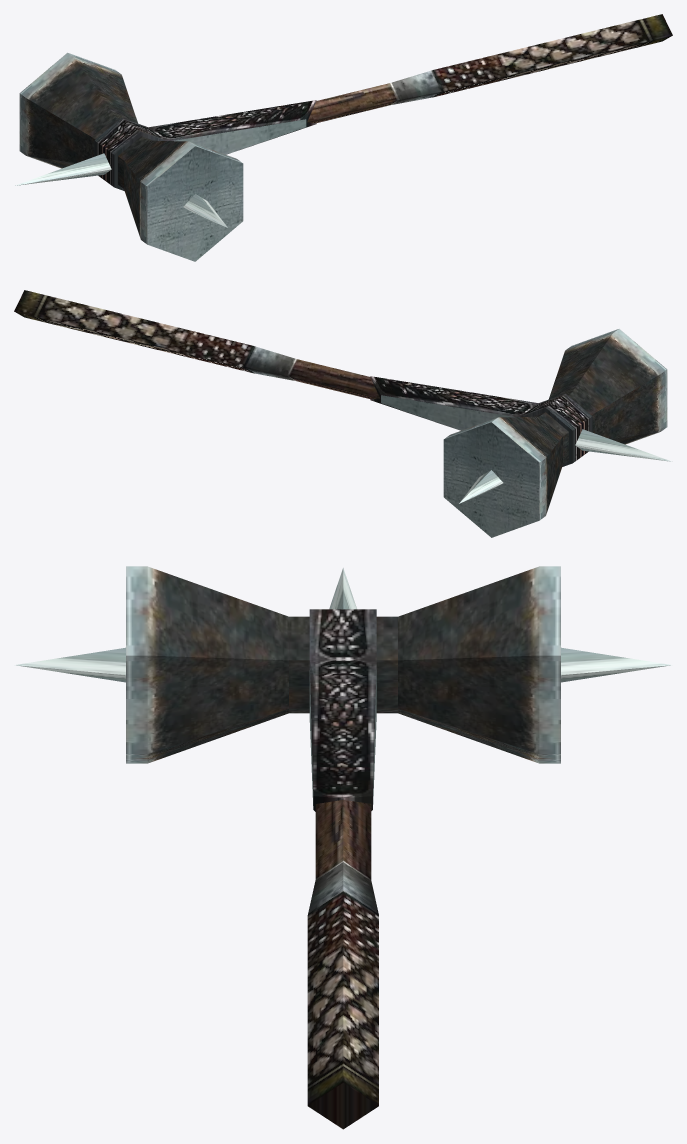
The model's file is ITMW_065_1H_WARHAMMER_03.glb.
The picture shows the model from 3 angles, top to bottom: view 1: azimuth 30°, elevation 25°; view 2: azimuth 150°, elevation 25°; view 3: azimuth 270°, elevation 25°; orthographic projection. The views are drawn at different scales.
Visible parts, largest first — view 1: ITMW_065_1H_WARHAMMER_03; view 2: ITMW_065_1H_WARHAMMER_03; view 3: ITMW_065_1H_WARHAMMER_03.
Part boxes in pixels (bbox=[...]): ITMW_065_1H_WARHAMMER_03: bbox=[15, 14, 672, 261]; ITMW_065_1H_WARHAMMER_03: bbox=[14, 290, 672, 537]; ITMW_065_1H_WARHAMMER_03: bbox=[14, 566, 672, 1129].
Bounding box in the file's own units: 0.844 × 0.144 × 0.4363.
Materials: 2 (2 with a texture image).
